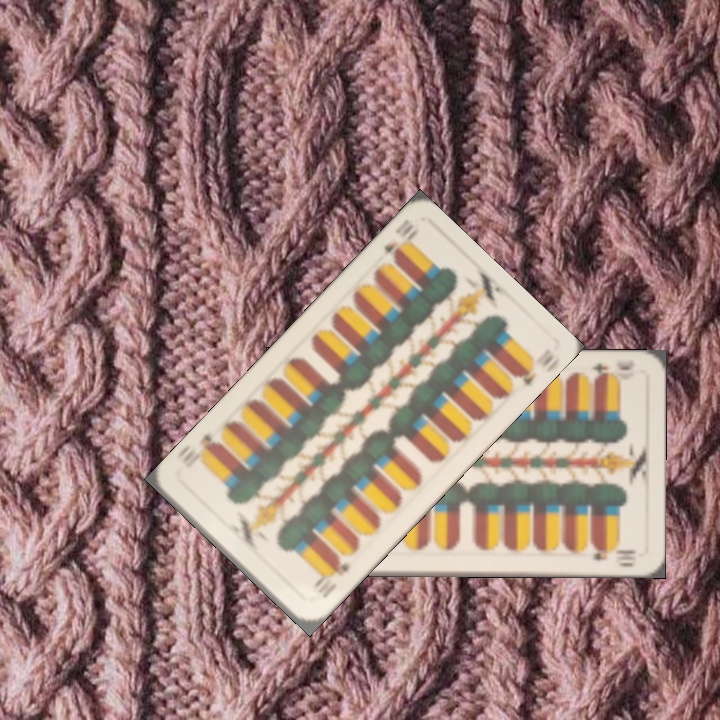E10: (379, 215, 421, 265), (314, 554, 353, 601), (586, 356, 637, 383)
